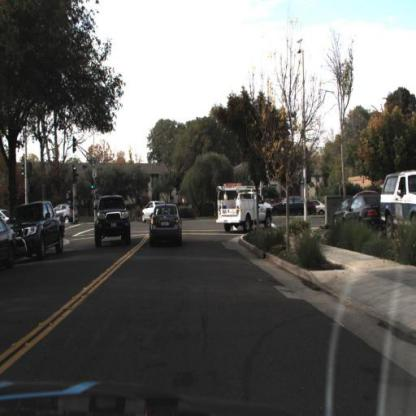car: (13, 197, 69, 266), (217, 183, 276, 233), (382, 170, 416, 242), (94, 192, 132, 252), (149, 199, 185, 249), (337, 189, 378, 227), (141, 196, 166, 223)
trafficLight-Green: (87, 175, 95, 193)
